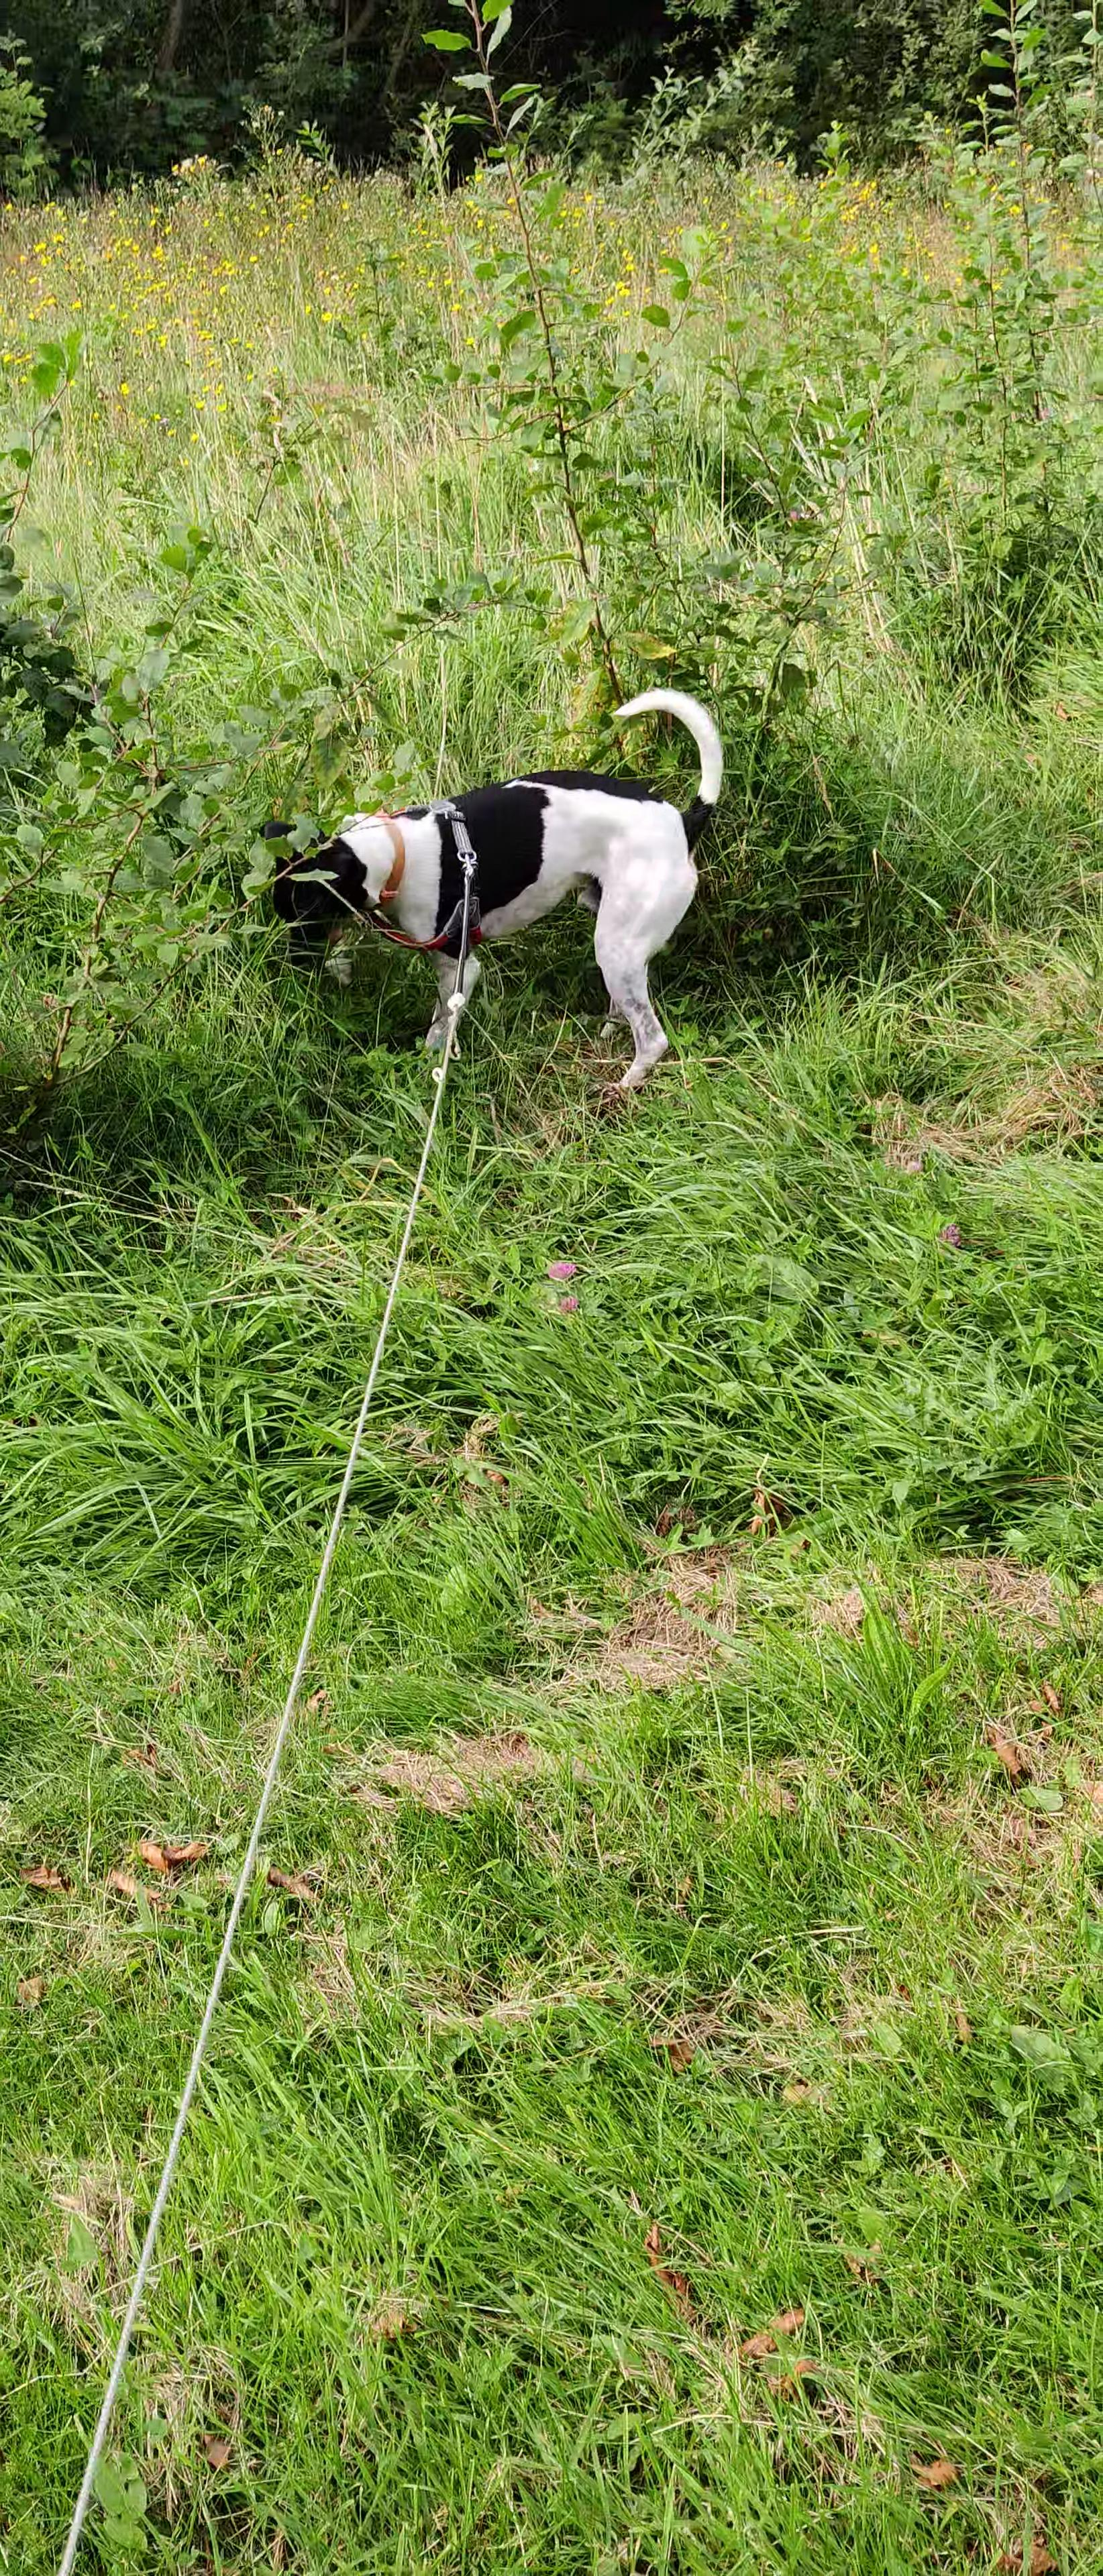Dog: (240, 680, 728, 1094)
